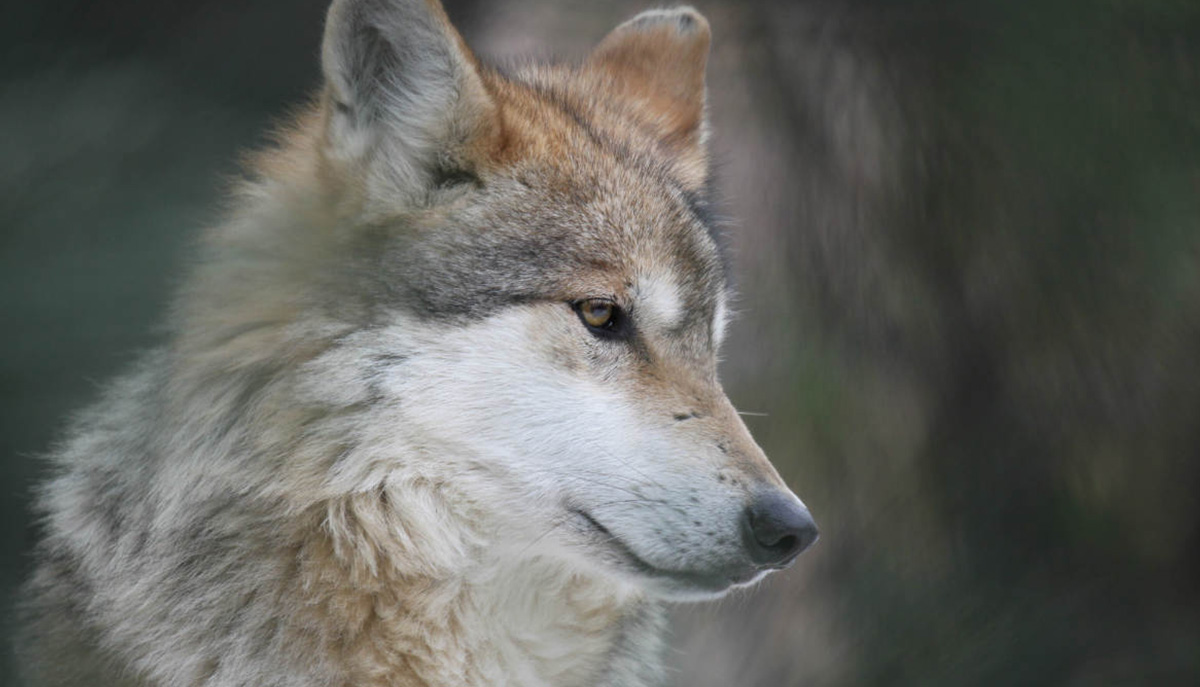Lobo: (70, 10, 837, 647)
